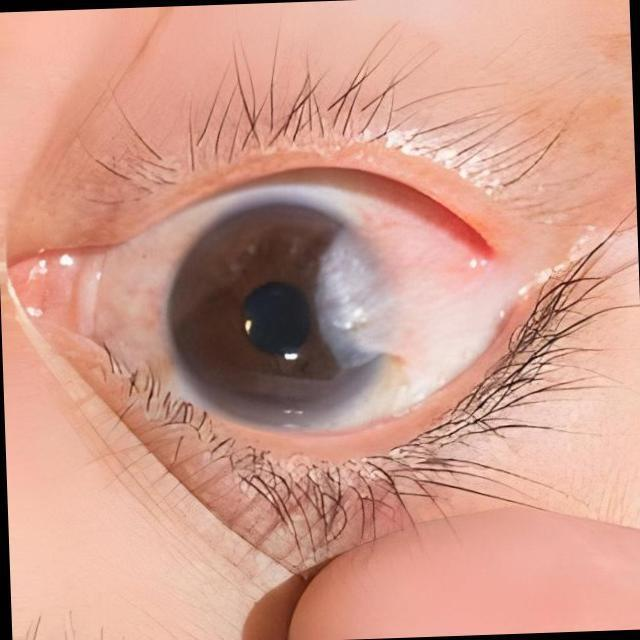Pterygium: (314, 206, 534, 386)
